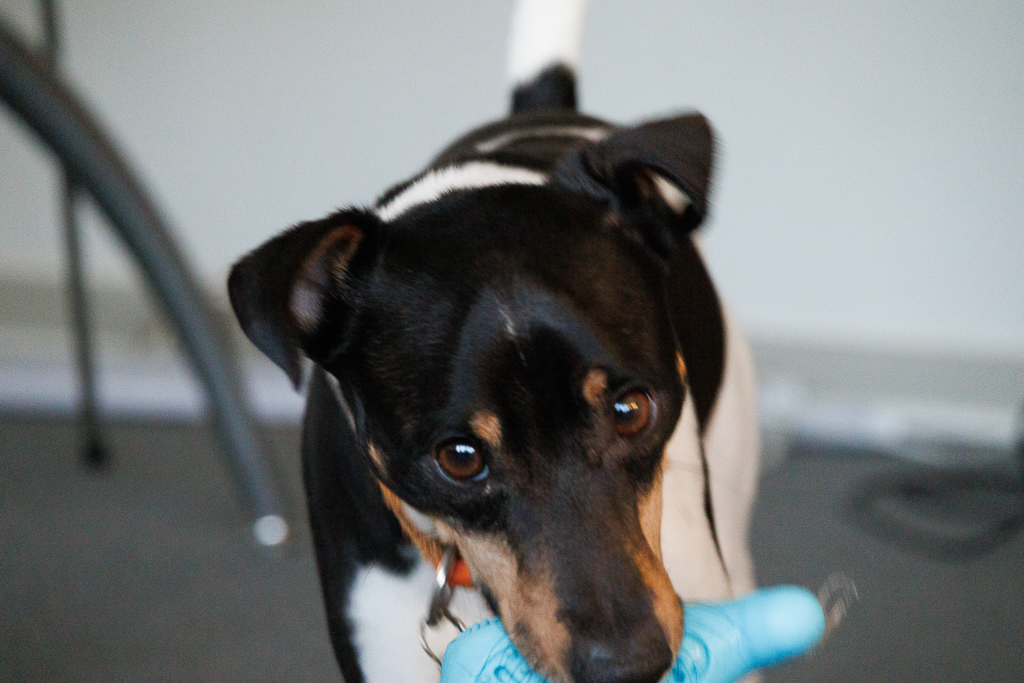Dog: (217, 0, 771, 683)
